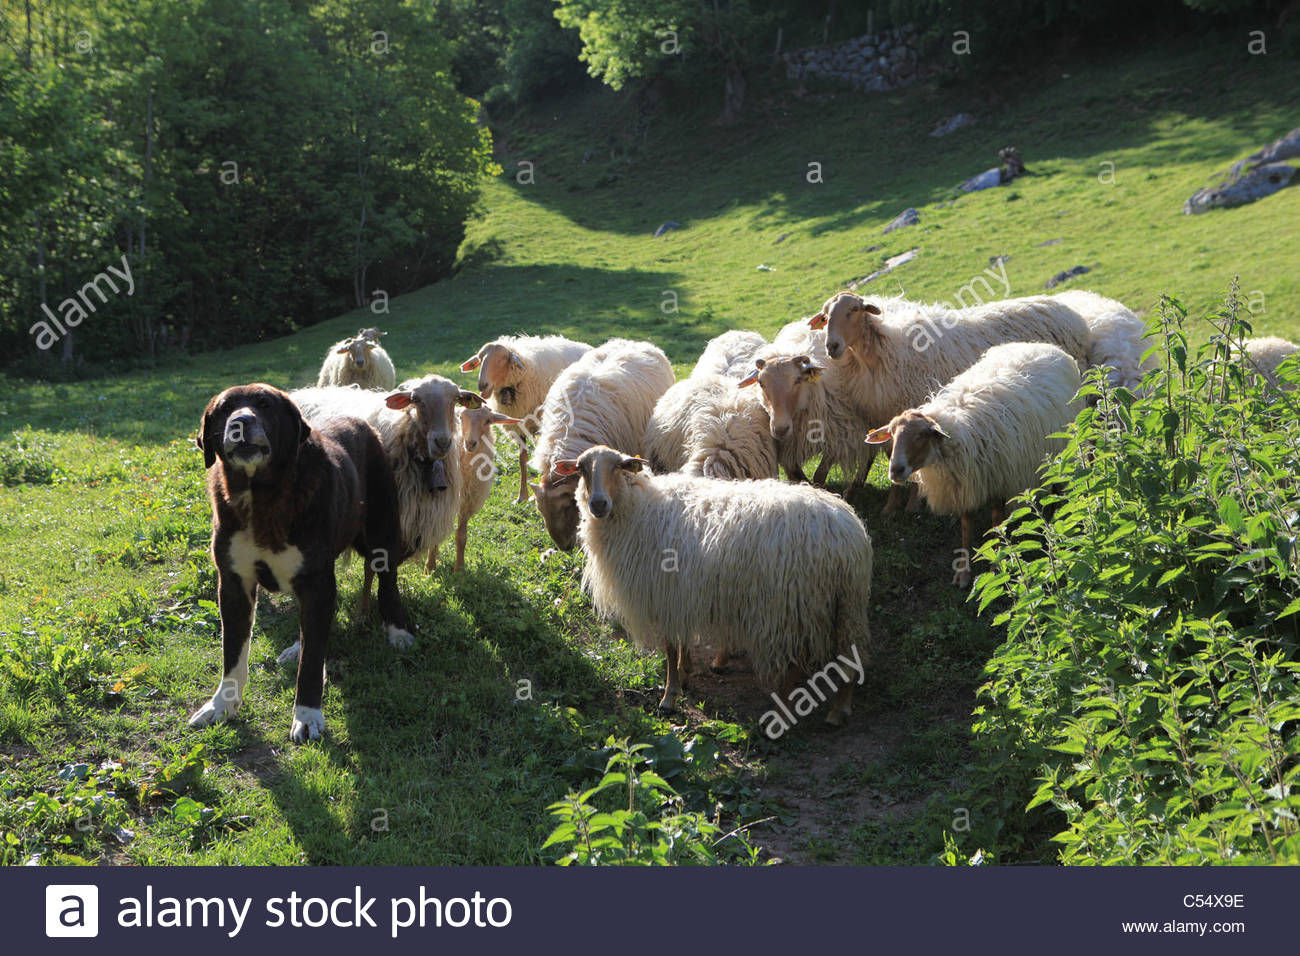sheep: (595, 450, 853, 684), (886, 346, 1100, 537), (318, 366, 460, 577), (520, 335, 651, 539), (666, 331, 796, 493), (480, 328, 578, 462), (298, 320, 402, 433)
